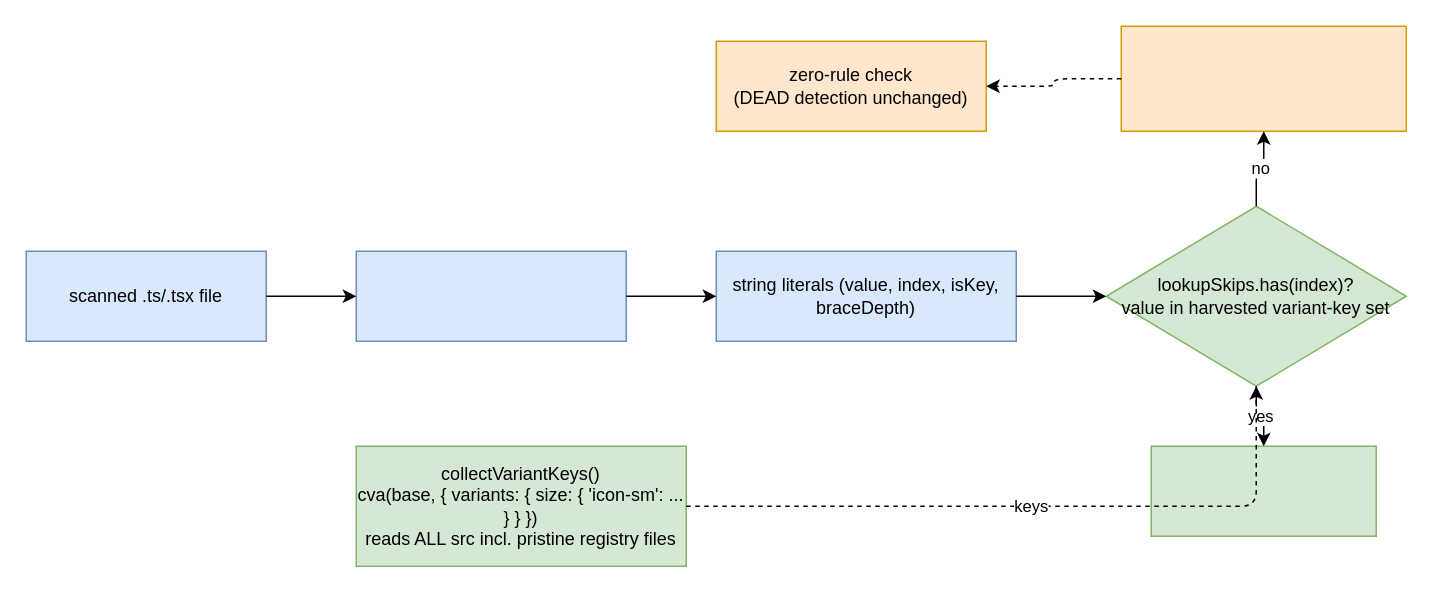
Some shapes in this 1433 by 593 pixel diagram are drawn without their labels. Each missing label, with the centre of its shape:
braceLiteralIsClassLike (space/hyphen) + tokenize: [1263,78]
drop literal (lookup key, #1178): [1263,490]
stripComments + scanContainer: [490,295]
